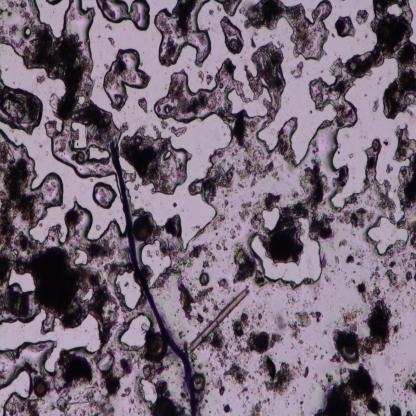Air bubble: (0, 313, 105, 373), (242, 0, 332, 62), (153, 61, 244, 118), (251, 216, 322, 282), (43, 121, 114, 180), (156, 0, 211, 67), (103, 48, 151, 112), (95, 0, 153, 33), (0, 365, 32, 415), (34, 0, 72, 41), (141, 240, 172, 286), (110, 270, 142, 312), (119, 314, 153, 352), (6, 268, 36, 296), (93, 181, 118, 211), (138, 376, 159, 407), (260, 206, 283, 233), (70, 247, 88, 268), (39, 314, 56, 335), (284, 182, 298, 202), (386, 3, 404, 18), (24, 26, 31, 38), (164, 149, 171, 160)
Background material: (25, 22, 86, 121), (307, 47, 382, 123), (371, 18, 416, 120), (187, 287, 249, 353), (246, 43, 287, 126), (316, 365, 384, 415), (36, 242, 78, 320), (0, 140, 38, 226), (257, 202, 306, 268), (120, 126, 166, 190), (301, 162, 336, 244), (0, 74, 44, 137), (364, 289, 393, 356), (328, 312, 362, 364), (190, 162, 233, 201), (261, 356, 299, 399), (82, 104, 118, 147), (55, 352, 93, 390), (237, 148, 276, 184), (150, 380, 186, 416), (96, 352, 122, 398), (288, 306, 323, 340), (250, 292, 282, 329), (399, 154, 416, 216), (230, 112, 259, 148), (220, 15, 244, 54), (172, 1, 196, 38), (247, 329, 283, 353), (231, 245, 256, 279), (364, 138, 382, 182), (177, 282, 196, 322), (325, 253, 348, 286), (384, 268, 416, 291), (2, 1, 33, 24), (337, 209, 374, 228), (210, 331, 229, 368), (84, 391, 113, 415), (0, 22, 23, 50), (300, 340, 330, 361), (189, 245, 215, 269), (335, 13, 358, 39), (387, 248, 416, 268), (225, 362, 249, 386), (171, 252, 190, 281), (212, 0, 242, 18), (86, 244, 119, 260), (15, 232, 37, 254), (392, 368, 408, 397), (279, 137, 296, 164), (232, 313, 250, 338), (117, 355, 133, 382), (282, 285, 300, 309), (164, 214, 182, 238), (261, 190, 282, 210), (64, 206, 80, 232), (238, 199, 255, 223), (376, 191, 394, 212), (369, 260, 381, 289), (141, 363, 164, 378), (401, 372, 416, 394), (407, 219, 416, 251), (78, 286, 94, 304), (355, 7, 370, 25), (291, 60, 305, 79), (345, 190, 359, 209), (356, 278, 367, 302), (171, 124, 188, 139), (250, 399, 266, 414), (211, 237, 228, 251), (54, 397, 69, 412), (388, 400, 402, 416), (228, 224, 242, 240), (197, 70, 213, 84), (213, 213, 226, 229), (357, 250, 369, 266), (216, 377, 225, 396), (139, 96, 149, 112), (393, 321, 403, 336), (343, 253, 356, 264), (218, 278, 229, 290), (222, 402, 232, 414), (302, 365, 310, 379), (122, 386, 132, 397), (321, 254, 328, 269), (35, 74, 46, 83), (372, 101, 379, 113), (249, 38, 256, 50), (108, 36, 116, 46), (340, 238, 347, 249), (386, 164, 393, 175), (160, 119, 168, 128), (404, 408, 412, 416), (171, 200, 178, 208), (384, 139, 390, 147), (348, 151, 354, 159)
Cotton: (110, 143, 198, 416)
Diatom: (147, 331, 168, 362), (134, 215, 150, 243), (341, 345, 359, 363), (35, 378, 48, 398), (193, 371, 205, 392), (228, 37, 240, 54), (75, 150, 86, 164), (199, 271, 209, 286)
